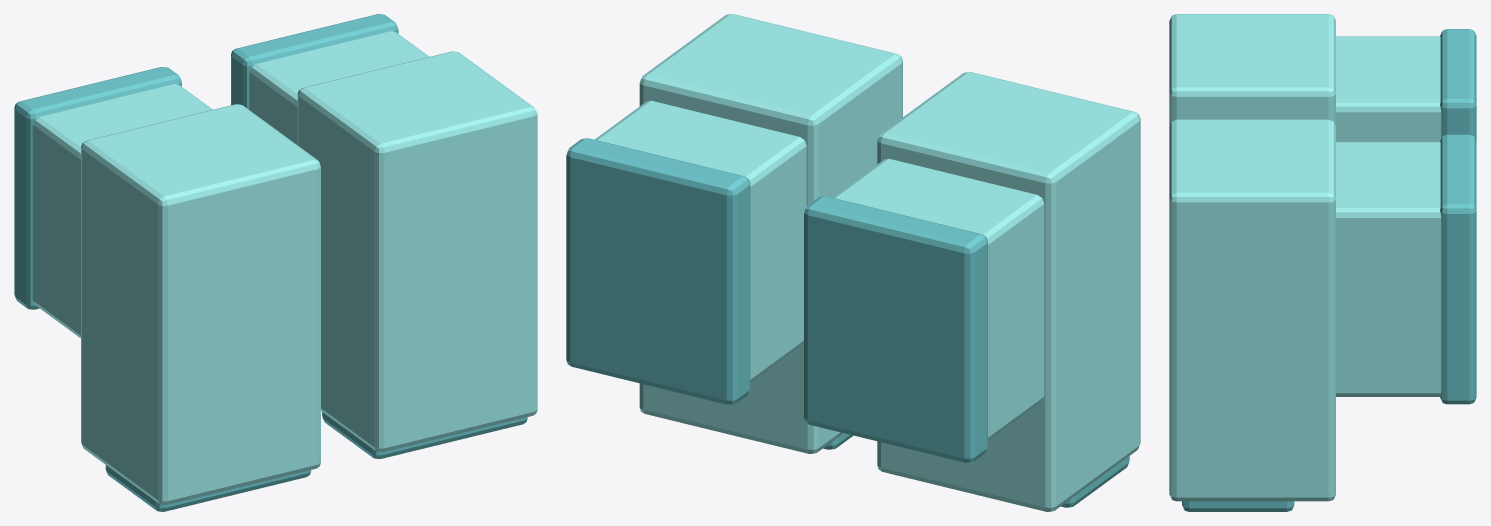
Rendered from diamond_boots_held.gltf.
3 views of the same model, side by side, from view 1: azimuth 30°, elevation 25°; view 2: azimuth 150°, elevation 25°; view 3: azimuth 270°, elevation 25° (orthographic). The views are drawn at different scales.
Parts seen in each view (by area): view 1: armor_diamond_boots_held; view 2: armor_diamond_boots_held; view 3: armor_diamond_boots_held.
Part boxes in pixels (x1,y1,x2,y2): armor_diamond_boots_held: (14,14,537,511); armor_diamond_boots_held: (566,14,1140,511); armor_diamond_boots_held: (1169,14,1476,511).
Size of the model in its own units: 0.16 by 0.1295 by 0.1124.
